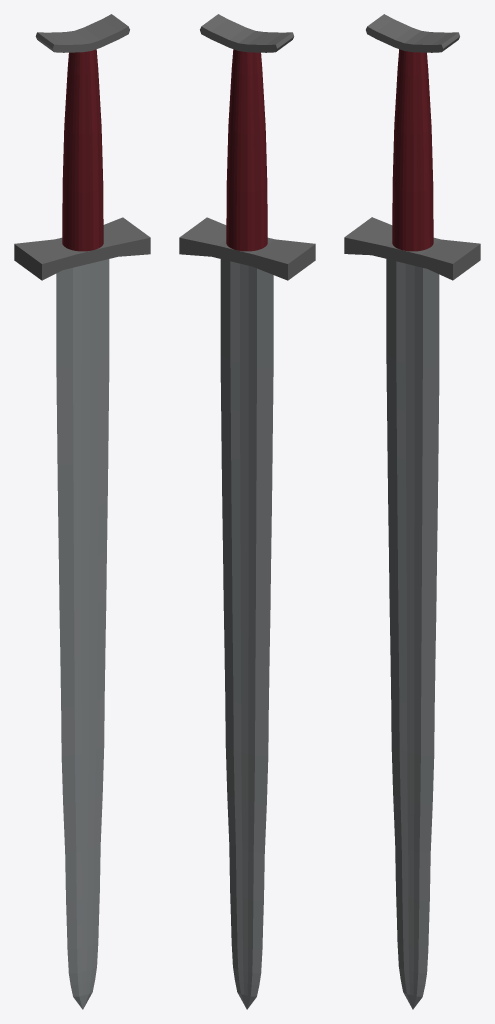
File: sword3.fbx
The picture shows the model from 3 angles, left to right: view 1: azimuth 30°, elevation 25°; view 2: azimuth 150°, elevation 25°; view 3: azimuth 330°, elevation 25°; orthographic projection.
Parts seen in each view (by area): view 1: sword3; view 2: sword3; view 3: sword3.
Boxes of the visible parts, left/top/right/bottom form: sword3: left=14, top=14, right=150, bottom=1009; sword3: left=179, top=14, right=315, bottom=1009; sword3: left=344, top=14, right=480, bottom=1009.
Size of the model in its own units: 25.19 by 217 by 11.15.
